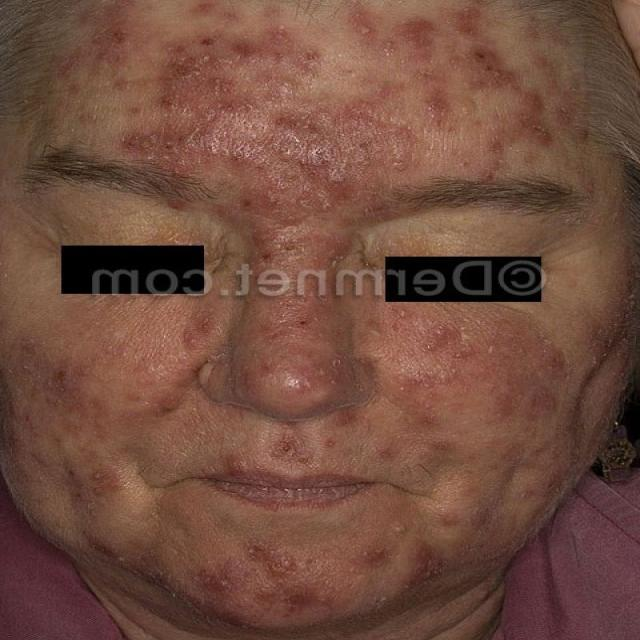Acne: (73, 15, 526, 189), (19, 327, 198, 544), (401, 325, 564, 497), (203, 506, 414, 632), (217, 226, 374, 394), (217, 411, 363, 478)
